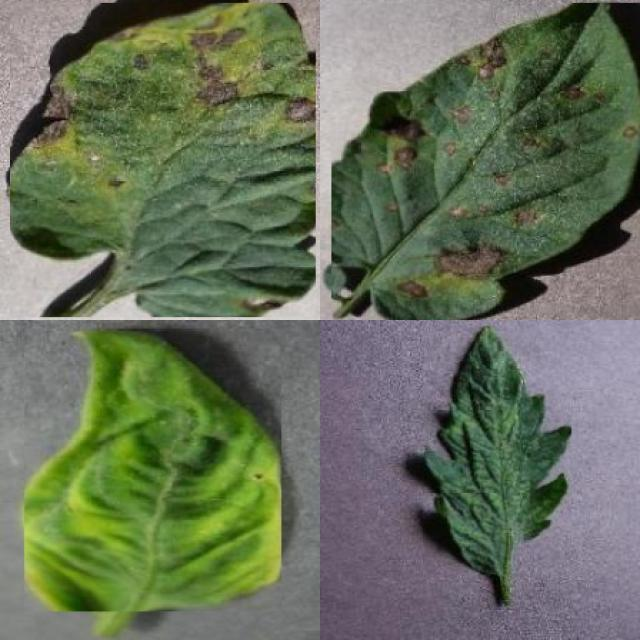Early Blight: (332, 3, 640, 320), (10, 3, 316, 317)
Mosaic Virus: (423, 326, 571, 574)
Yellow Leaf Curl Virus: (25, 329, 282, 612)
